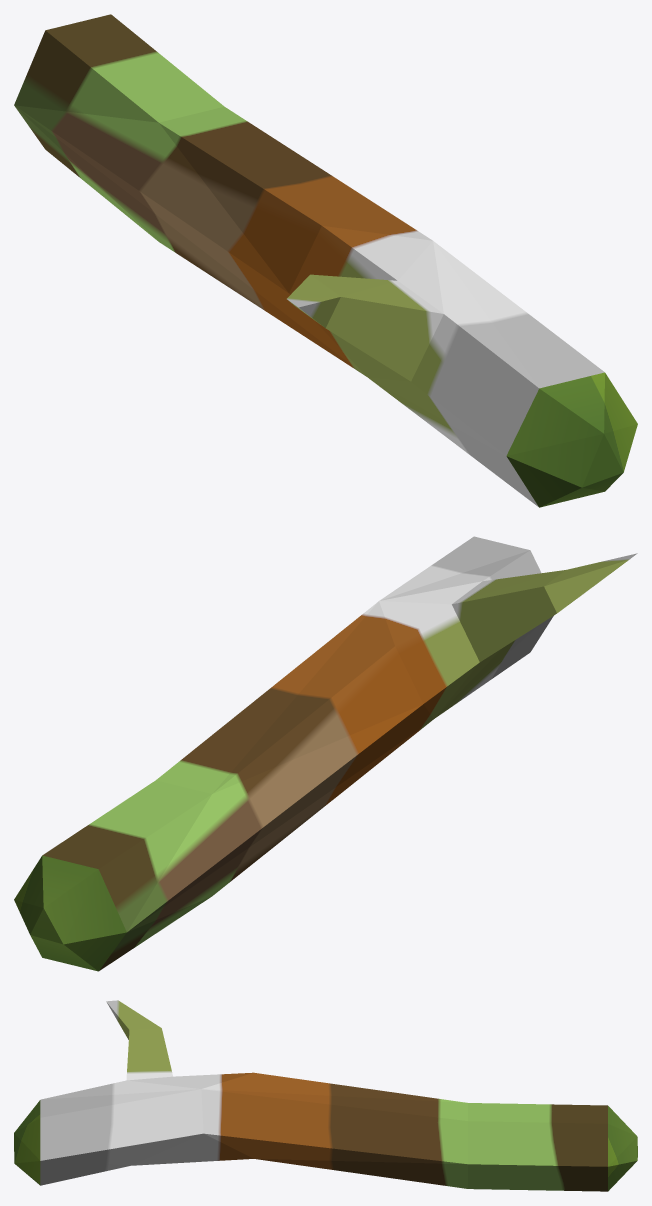
The model's file is Branch_01.fbx.
3 views of the same model, one above another, from view 1: azimuth 30°, elevation 25°; view 2: azimuth 150°, elevation 25°; view 3: azimuth 270°, elevation 25° (orthographic). The views are drawn at different scales.
Parts seen in each view (by area): view 1: Branch_01; view 2: Branch_01; view 3: Branch_01.
Boxes of the visible parts, x1,y1,x2,y2 form: Branch_01: (14,14,637,507); Branch_01: (14,536,637,971); Branch_01: (14,1000,637,1191).
Bounding box in the file's own units: 0.8747 × 0.6152 × 2.89.
